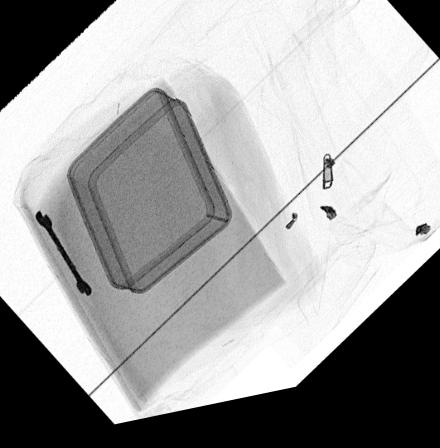Wrench: (32, 210, 93, 300)
